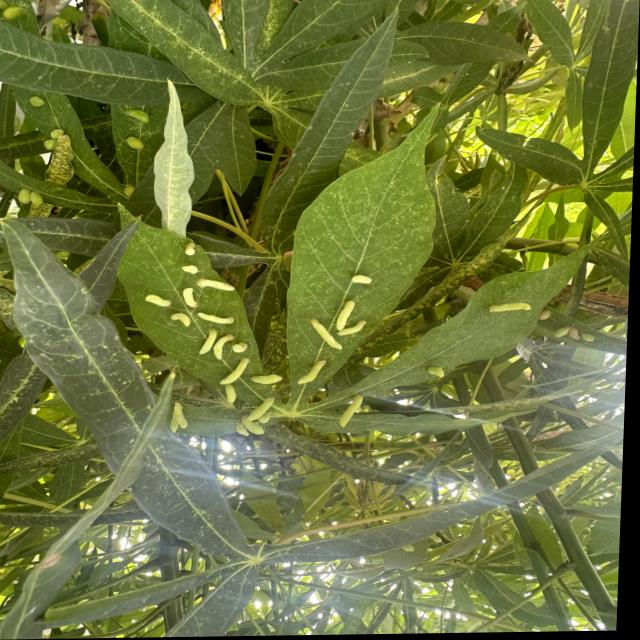Mosca: (304, 295, 387, 354), (209, 352, 260, 408), (160, 302, 249, 332), (178, 272, 243, 308), (189, 326, 261, 357), (124, 95, 156, 162), (290, 346, 339, 389), (235, 397, 278, 443), (414, 345, 456, 388), (332, 388, 371, 429), (481, 296, 540, 323), (172, 230, 205, 273), (142, 274, 180, 307), (40, 121, 69, 160), (164, 396, 191, 435), (19, 82, 51, 113), (249, 363, 279, 395), (12, 185, 44, 209), (337, 267, 374, 287)
